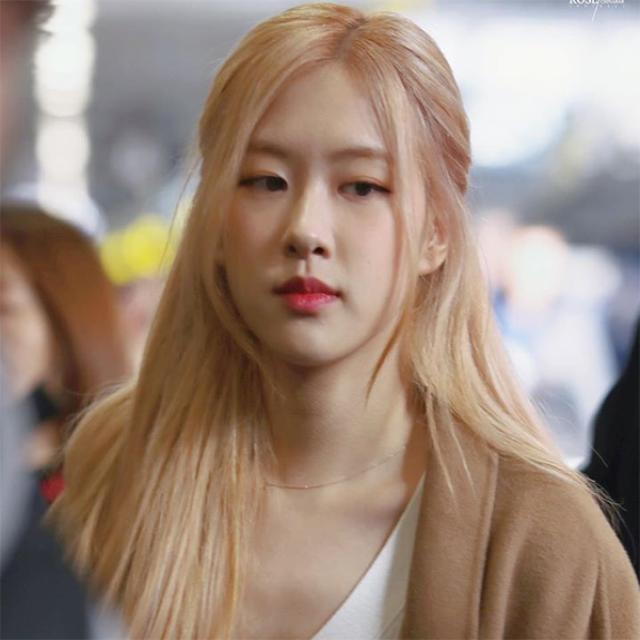Nonhelmet: (163, 9, 471, 378)
